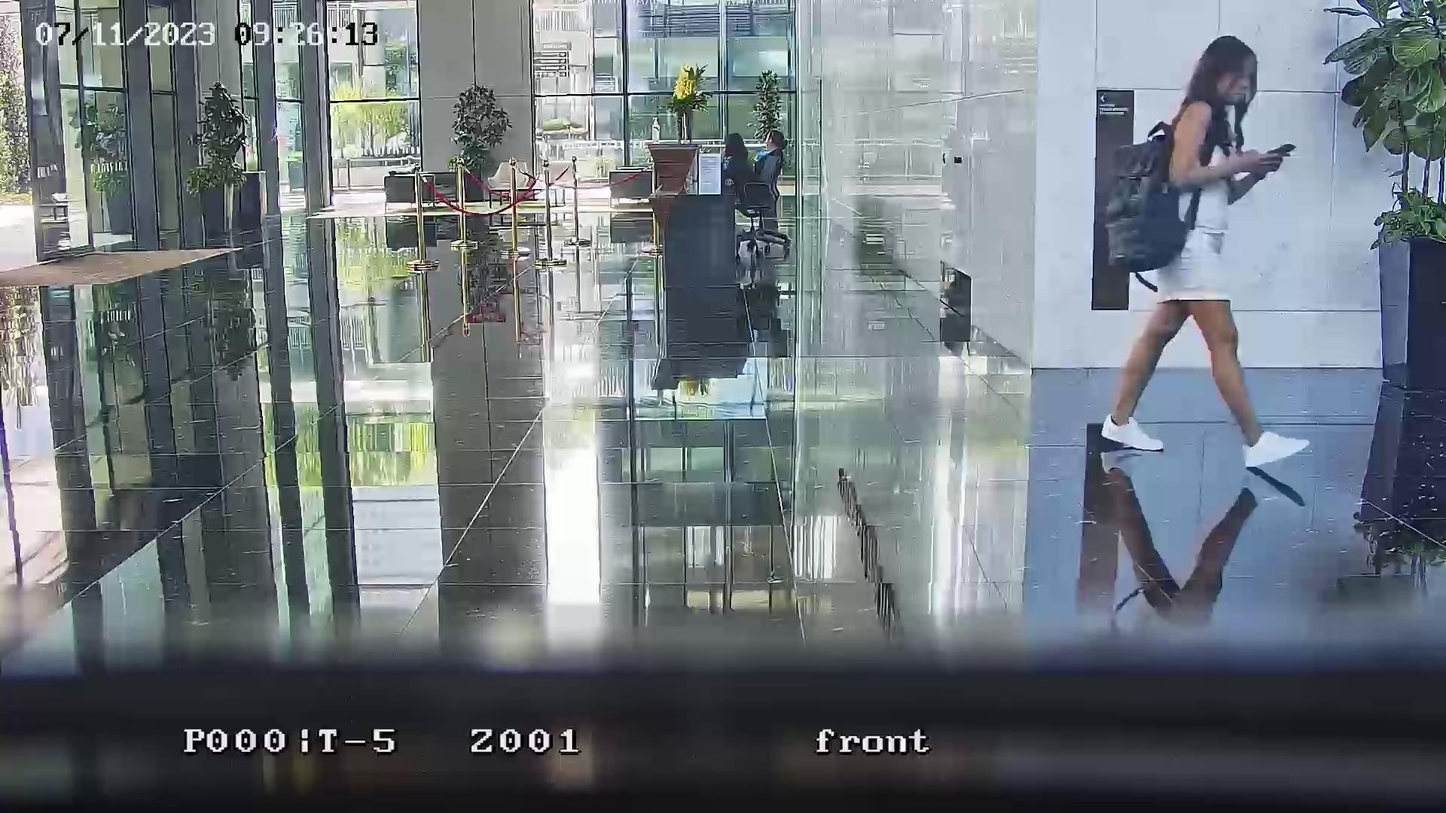person: (1101, 35, 1312, 470), (753, 131, 785, 194), (722, 132, 752, 194)
